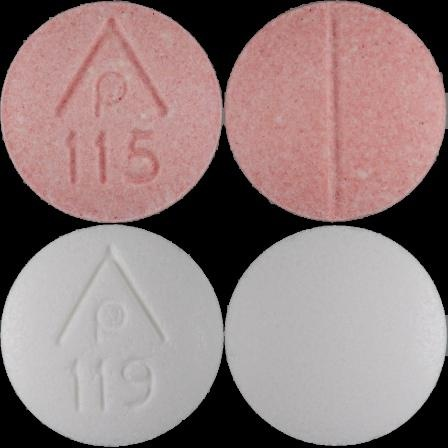0536-3990: (0, 0, 224, 224)
